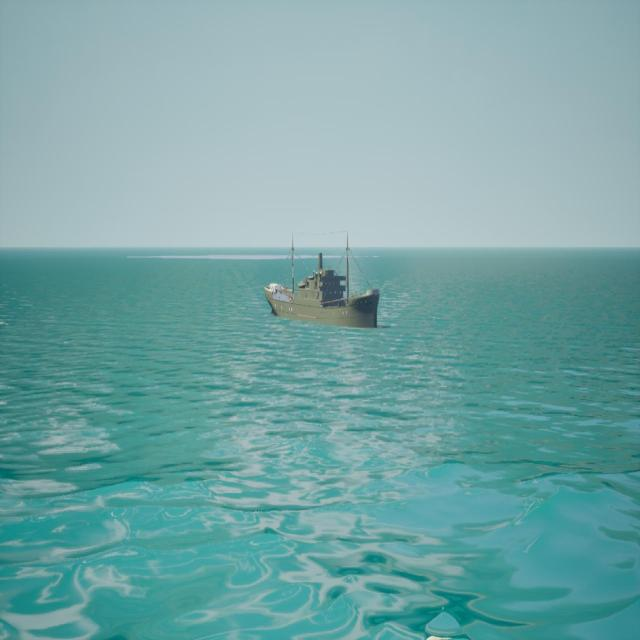fishing ship: (264, 234, 383, 333)
